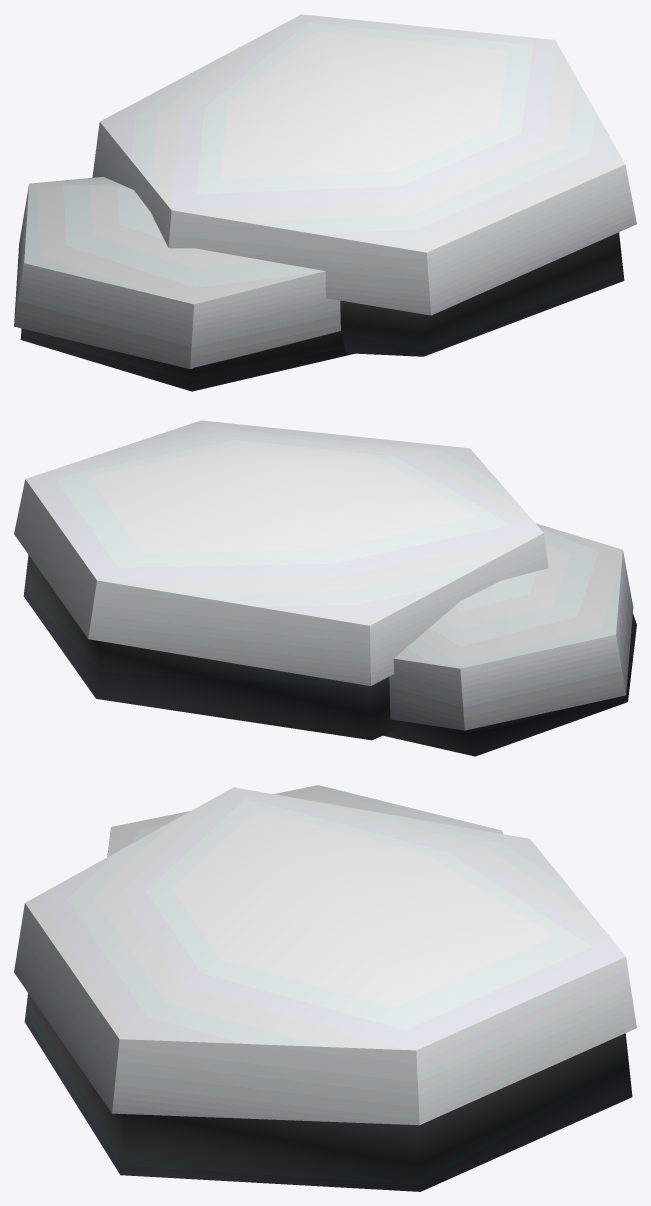
Rendered from SM_Rocks_S.fbx.
3 views of the same model, one above another, from view 1: azimuth 30°, elevation 25°; view 2: azimuth 150°, elevation 25°; view 3: azimuth 270°, elevation 25° (orthographic). The views are drawn at different scales.
Visible parts, largest first — view 1: Rocks_S_Snow, Rocks_S; view 2: Rocks_S_Snow, Rocks_S; view 3: Rocks_S_Snow, Rocks_S.
Boxes of the visible parts, x1=… form: Rocks_S_Snow: x1=14, y1=14, x2=636, y2=368; Rocks_S: x1=20, y1=232, x2=624, y2=391; Rocks_S_Snow: x1=14, y1=420, x2=633, y2=730; Rocks_S: x1=23, y1=555, x2=636, y2=756; Rocks_S_Snow: x1=14, y1=785, x2=636, y2=1125; Rocks_S: x1=24, y1=993, x2=632, y2=1191.
Bounding box in the file's own units: 4.03 × 1.4 × 3.13.
